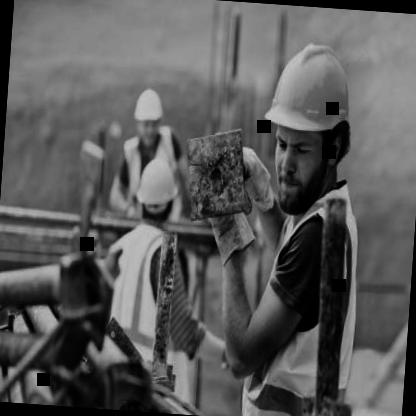helmet: (250, 30, 364, 220), (131, 155, 182, 231), (130, 84, 168, 150)
